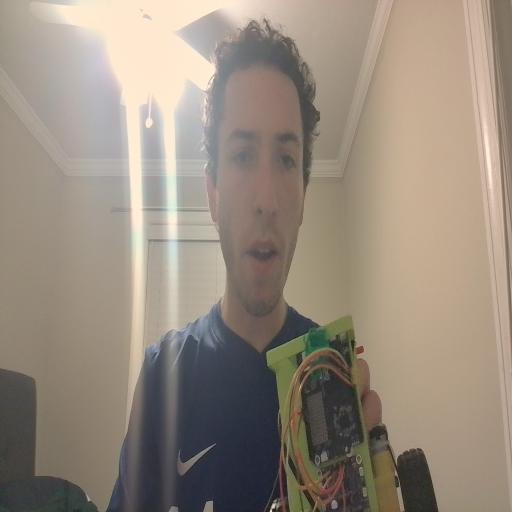green LEGO minifig: (302, 324, 332, 383)
